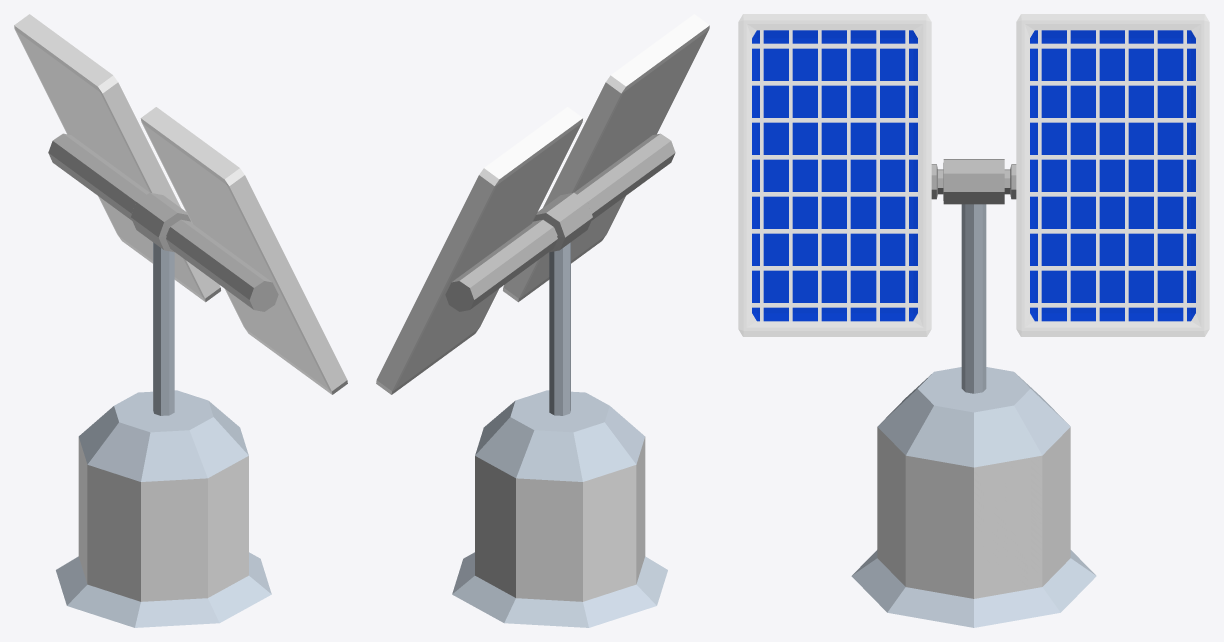
Rendered from Satellite2.glb.
3 renders of one model, left to right at view 1: azimuth 30°, elevation 25°; view 2: azimuth 150°, elevation 25°; view 3: azimuth 270°, elevation 25°, orthographic. The views are drawn at different scales.
Parts seen in each view (by area): view 1: Satellite2-Main, Satellite2-PanelRight, Satellite2-PanelLeft; view 2: Satellite2-Main, Satellite2-PanelLeft, Satellite2-PanelRight; view 3: Satellite2-PanelLeft, Satellite2-PanelRight, Satellite2-Main.
Boxes of the visible parts, left/top/right/bottom form: Satellite2-Main: left=48, top=133, right=278, bottom=627; Satellite2-PanelRight: left=140, top=107, right=347, bottom=394; Satellite2-PanelLeft: left=14, top=14, right=220, bottom=302; Satellite2-Main: left=445, top=133, right=675, bottom=627; Satellite2-PanelLeft: left=376, top=107, right=582, bottom=394; Satellite2-PanelRight: left=503, top=14, right=709, bottom=302; Satellite2-PanelLeft: left=1016, top=14, right=1209, bottom=336; Satellite2-PanelRight: left=738, top=14, right=931, bottom=336; Satellite2-Main: left=851, top=159, right=1096, bottom=627.
Size of the model in its own units: 2.54 by 6.51 by 4.88.
